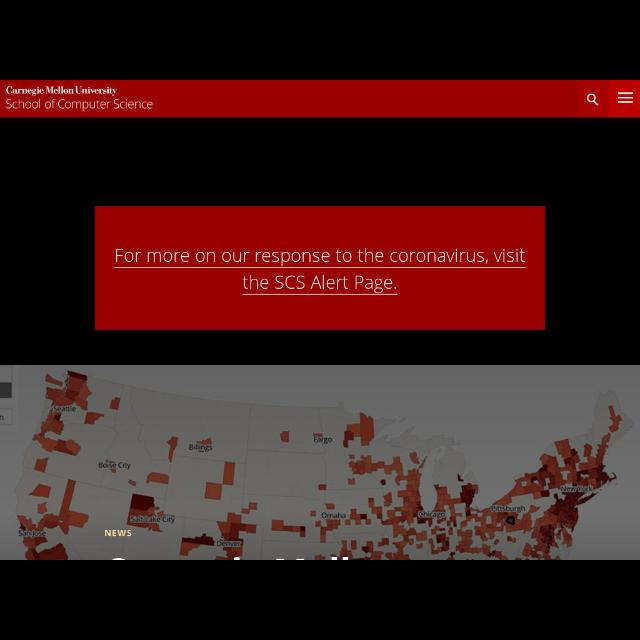icon: (618, 92, 632, 105), (587, 94, 597, 105)
image: (1, 364, 639, 560), (7, 84, 118, 96)
text: (114, 246, 528, 266), (242, 274, 396, 292), (6, 99, 152, 109)
toolbar: (1, 80, 639, 118)
